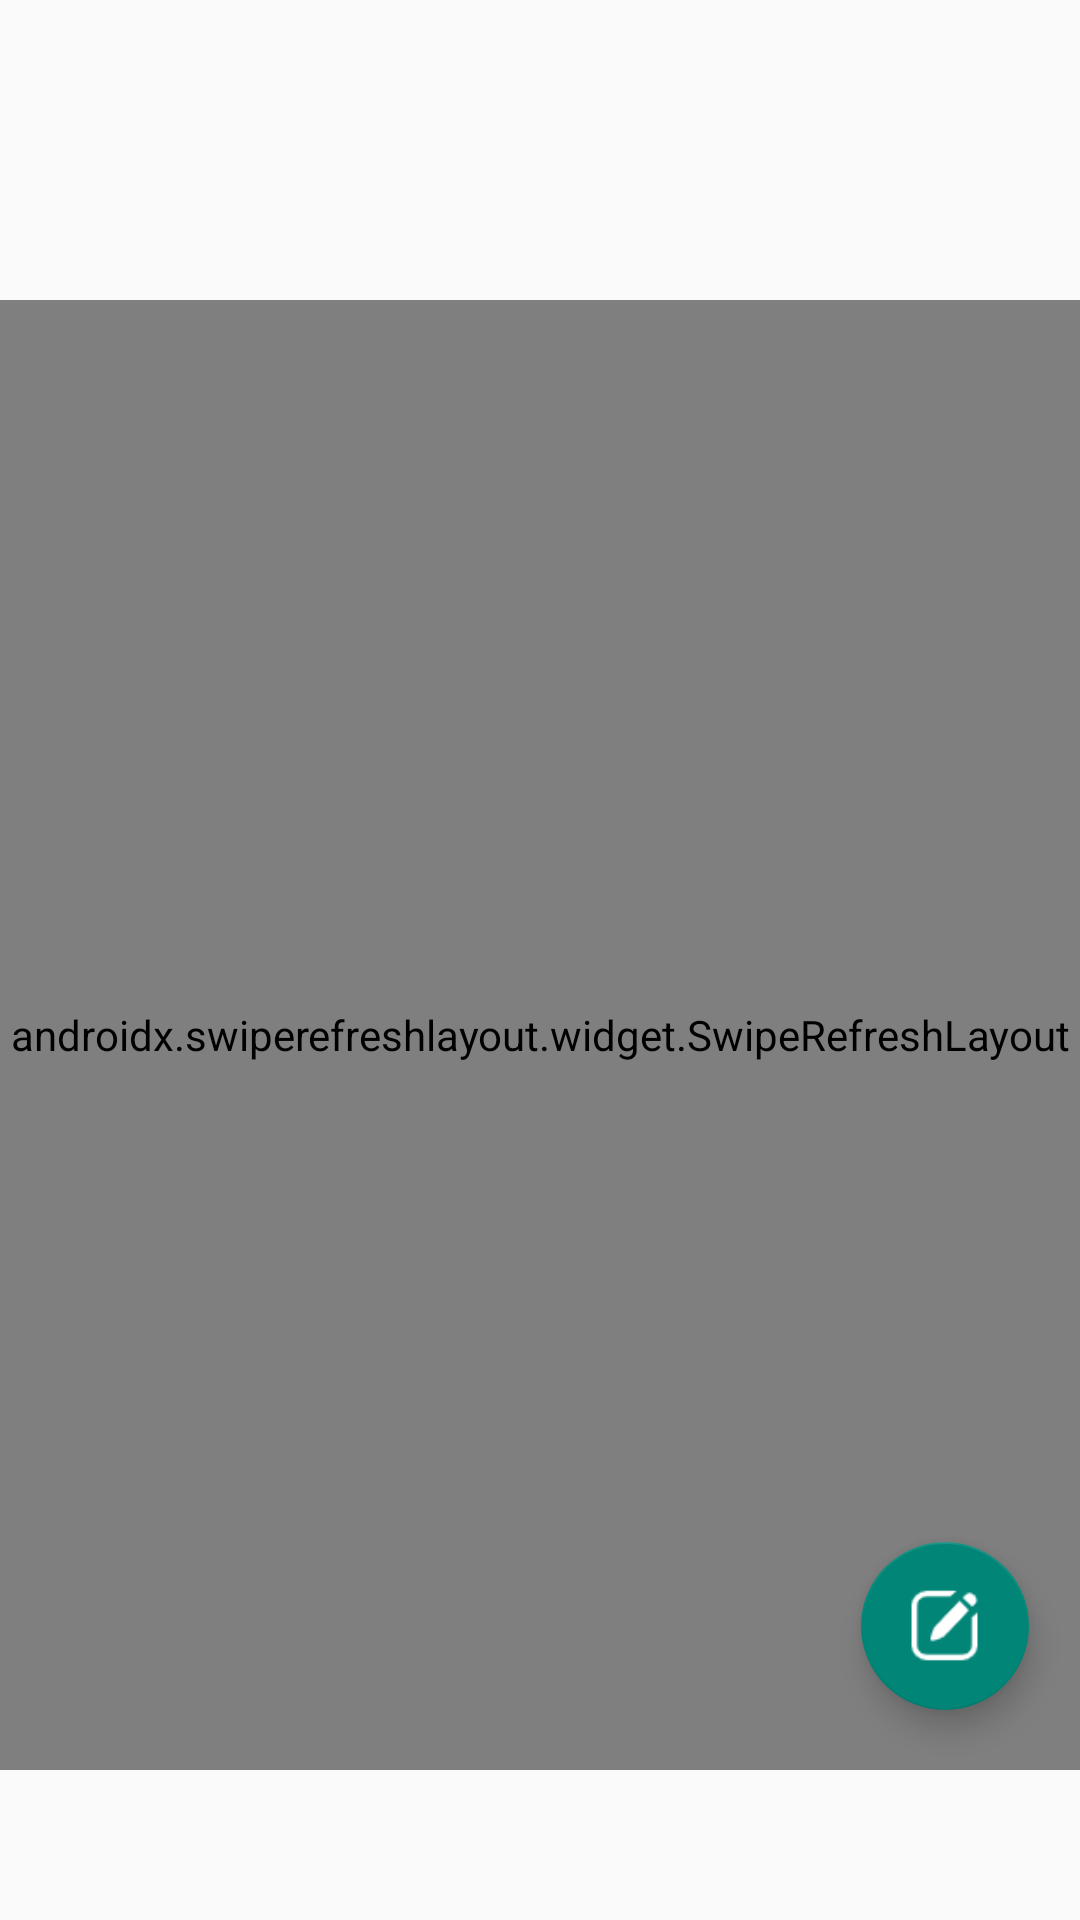

Screen size 1080×1920. Icon name, then its box in pixels as (x1, y1, x2, y2):
Post: (861, 1542, 1029, 1710)
